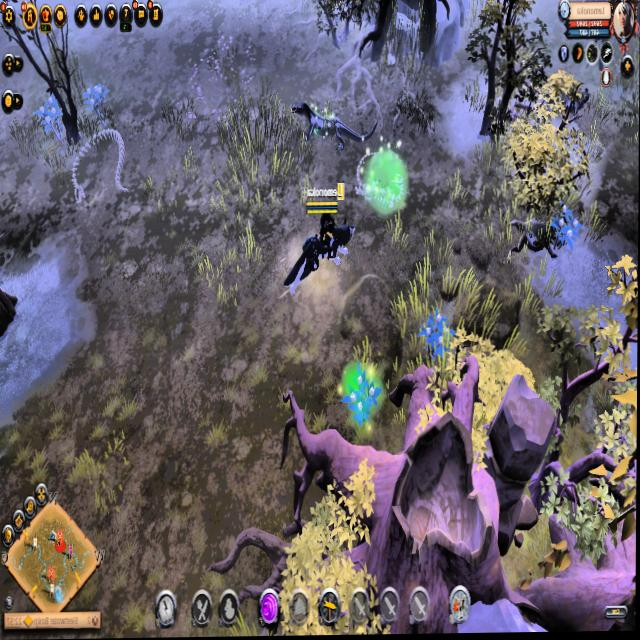fiber tier 4: (343, 361, 384, 433), (418, 307, 456, 367), (550, 201, 582, 259), (38, 92, 63, 146), (85, 81, 108, 136)
